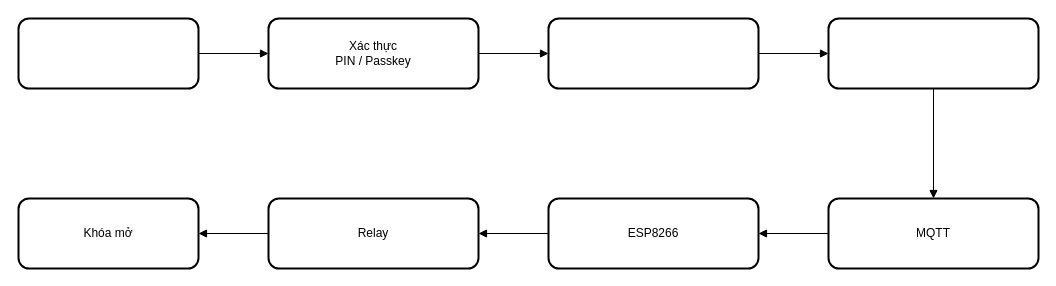
Image size: 1056x286. Some labels were removed from this diagram. The shapes that lost their labels are listed below. From the top down, each one's centre as x and y in pixels, then its label:
At point 108,53: "Người dùng".
At point 653,53: "Kiểm tra quyền".
At point 933,53: "Tạo lệnh OPEN".
